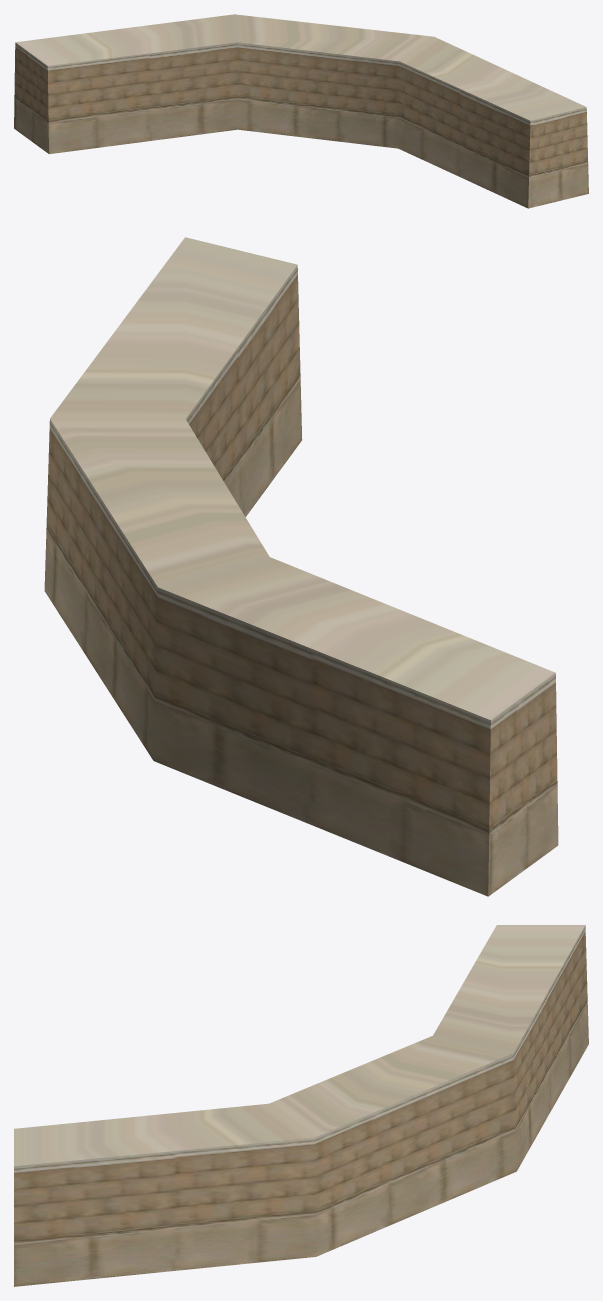
File: thm_nboo_imprv_short_curved_wall_large_s01_l3.fbx
3 views of the same model, one above another, from view 1: azimuth 30°, elevation 25°; view 2: azimuth 150°, elevation 25°; view 3: azimuth 270°, elevation 25° (orthographic). The views are drawn at different scales.
Visible parts, largest first — view 1: mesh_node; view 2: mesh_node; view 3: mesh_node.
Part boxes in pixels (<box>): mesh_node: <box>14,14,588,208</box>; mesh_node: <box>44,237,558,896</box>; mesh_node: <box>14,925,588,1286</box>.
Bounding box in the file's own units: 8.72 × 2 × 8.73.
1 material, 1 textured.
